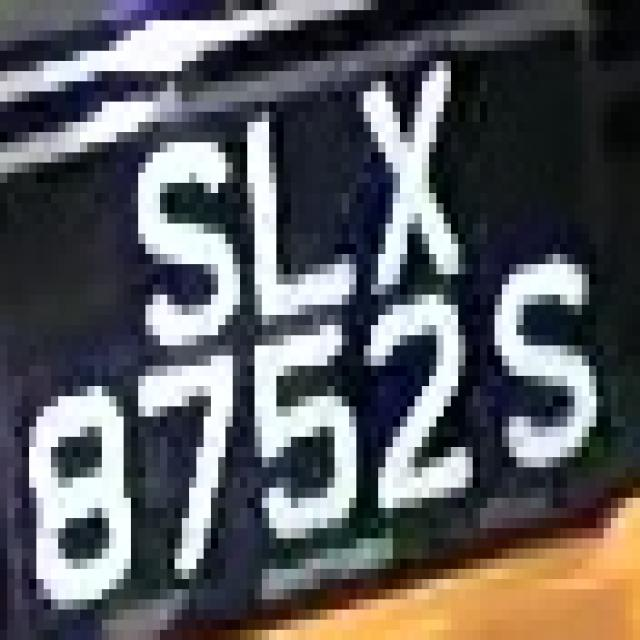2: (349, 264, 487, 539)
5: (254, 346, 371, 590)
7: (116, 315, 240, 609)
8: (29, 366, 153, 630)
L: (211, 91, 349, 315)
S: (487, 233, 611, 498), (116, 112, 240, 376)
X: (335, 31, 487, 274)
